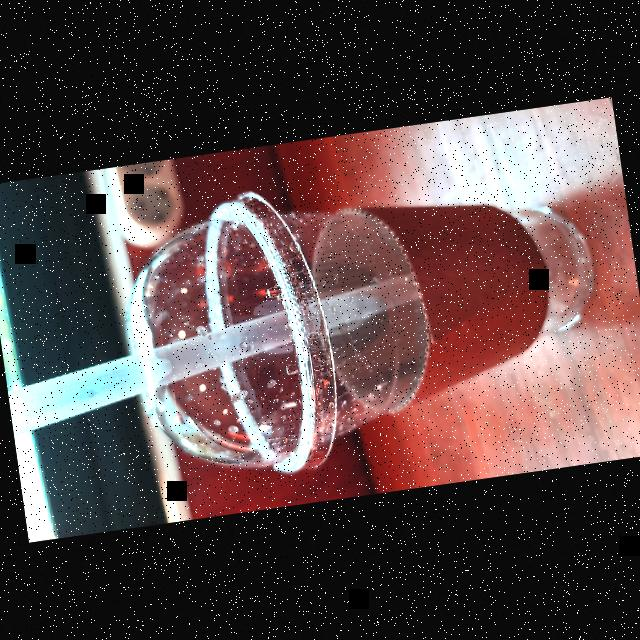plastic_cup: (108, 141, 618, 497)
plastic_cup_lid: (109, 184, 349, 496)
straw: (0, 272, 424, 435)
